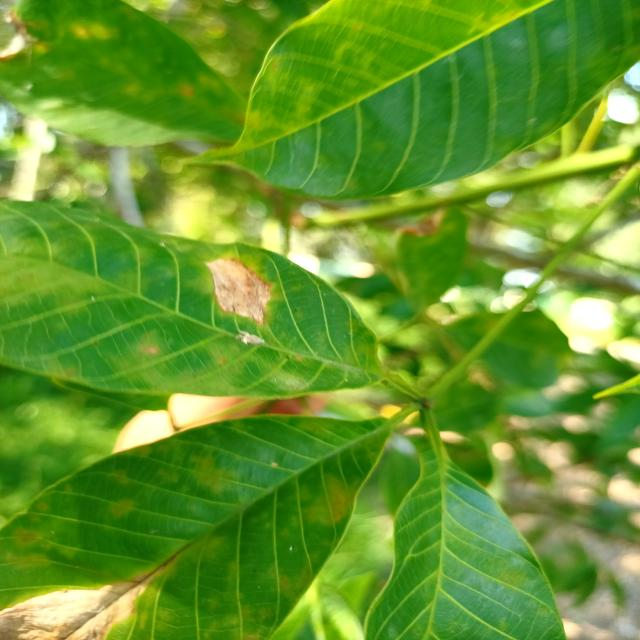Leaf-Blight: (207, 258, 272, 324)
